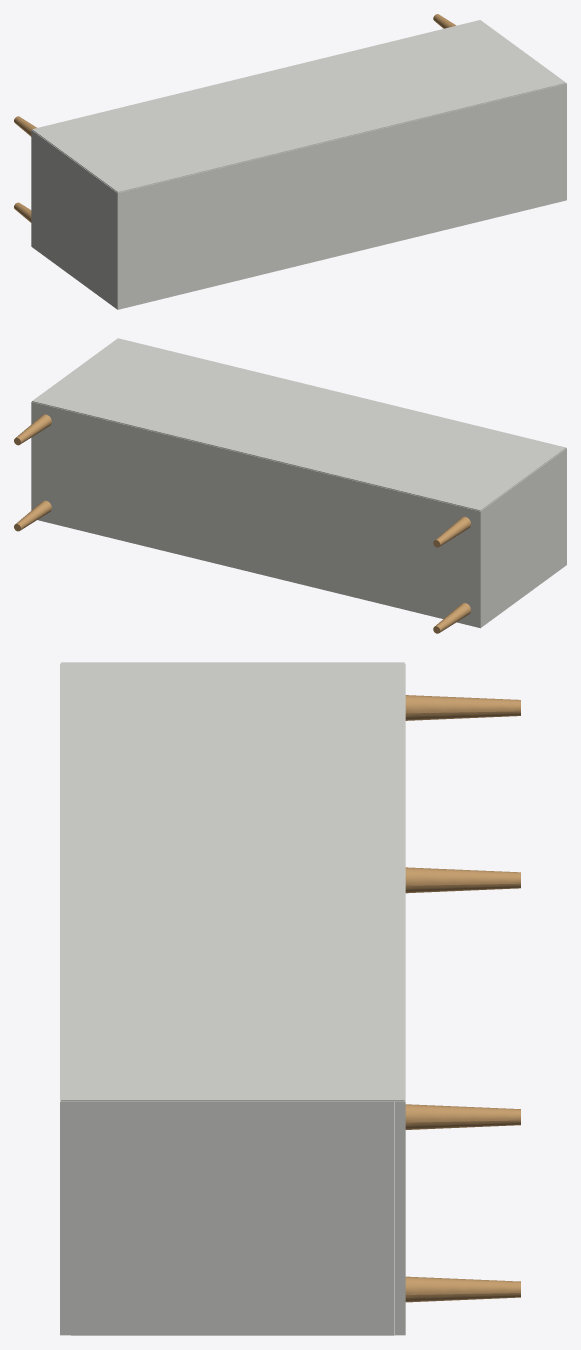
3 renders of one model, top to bottom at view 1: azimuth 30°, elevation 25°; view 2: azimuth 150°, elevation 25°; view 3: azimuth 270°, elevation 25°, orthographic. The views are drawn at different scales.
Visible parts, largest first — view 1: 0:Oberboden, 8:Rueckwand, 2:Seite_links; view 2: 1:Unterboden, 8:Rueckwand, 2:Seite_links, 46:Bein_vorn_rechts, 45:Bein_hinten_links, 44:Bein_vorn_links, 47:Bein_hinten_rechts; view 3: 8:Rueckwand, 3:Seite_rechts, 1:Unterboden, 0:Oberboden, 45:Bein_hinten_links, 47:Bein_hinten_rechts, 44:Bein_vorn_links, 46:Bein_vorn_rechts.
Part boxes in pixels (x1,y1,x2,y2): 0:Oberboden: (115,83,566,309); 8:Rueckwand: (32,20,566,192); 2:Seite_links: (34,132,114,307); 1:Unterboden: (31,401,483,628); 8:Rueckwand: (32,338,565,510); 2:Seite_links: (483,450,564,625); 46:Bein_vorn_rechts: (14,500,51,531); 45:Bein_hinten_links: (433,516,471,547); 44:Bein_vorn_links: (433,603,471,633); 47:Bein_hinten_rechts: (14,414,51,445); 8:Rueckwand: (61,662,404,1101); 3:Seite_rechts: (71,1101,394,1335); 1:Unterboden: (395,663,405,1335); 0:Oberboden: (60,663,70,1335); 45:Bein_hinten_links: (405,695,520,720); 47:Bein_hinten_rechts: (405,1104,520,1129); 44:Bein_vorn_links: (405,867,520,893); 46:Bein_vorn_rechts: (405,1276,520,1302).
Bounding box in the file's own units: 1800 × 475 × 800.
